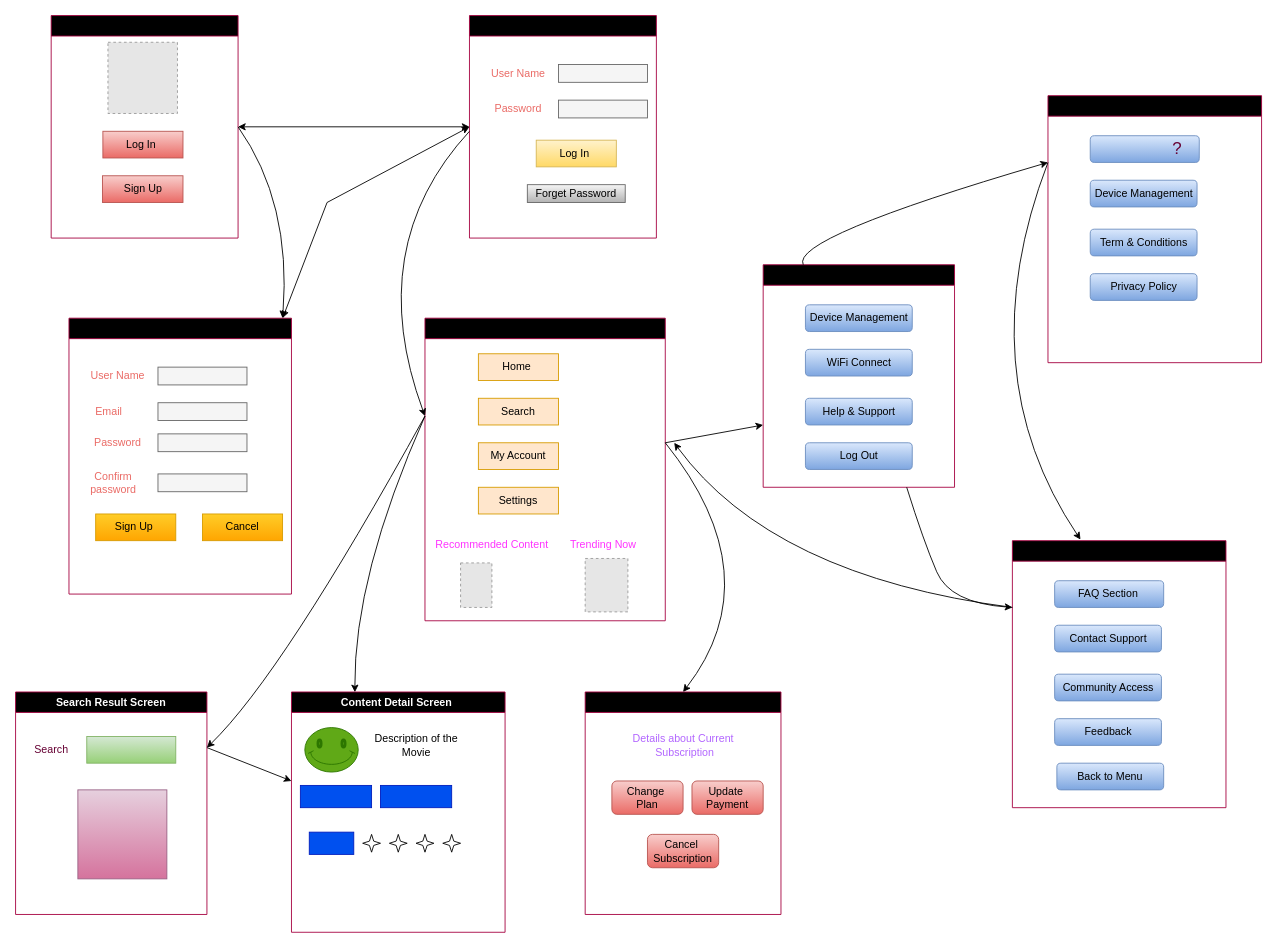
This 1277x948 diagram has some shape labels left out. Grey dashed boxes stand in for pictures. Here are the shapes that lost their labels. From the top down, the box of each, then its label:
(50, 15, 238, 238): Welcome Screen
(469, 15, 656, 238): Login Screen
(1089, 135, 1199, 162): Help
(1047, 95, 1262, 363): Tool Tip Screen
(762, 264, 955, 487): Settings Screen
(68, 317, 291, 594): SignUp Screen
(424, 317, 665, 621): Home/ Dashboard
(1011, 540, 1226, 808): Context Assistance Screen
(299, 785, 372, 808): Play
(380, 785, 452, 808): Add to Watchlist
(584, 691, 781, 914): Account/ Subscription Screen
(77, 789, 167, 879): List of content with titles Breif Description
(308, 831, 354, 854): Rate
